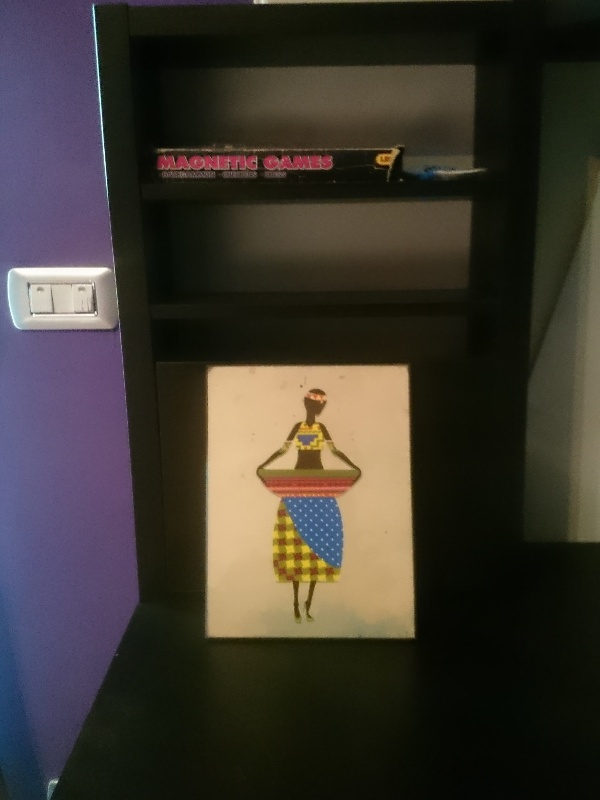my image: (207, 364, 411, 640)
